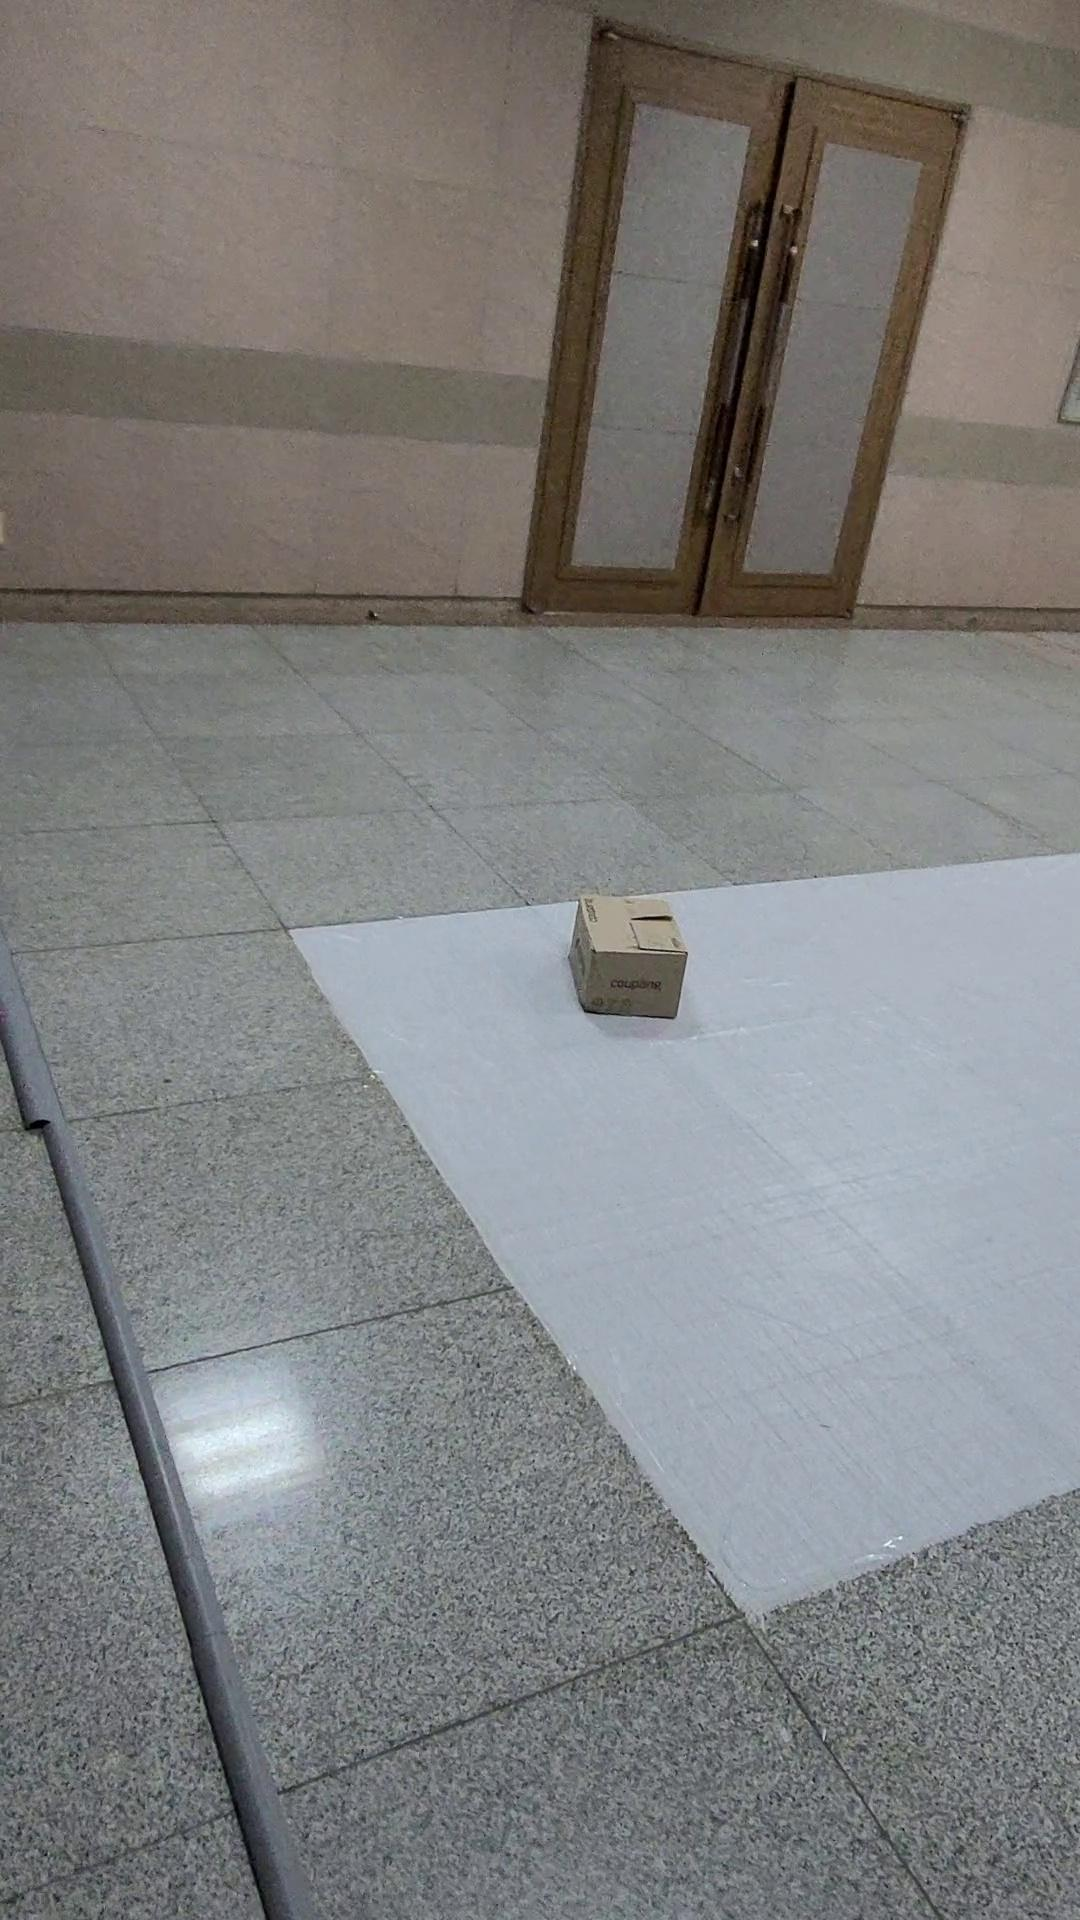Box: (527, 851, 787, 1116)
